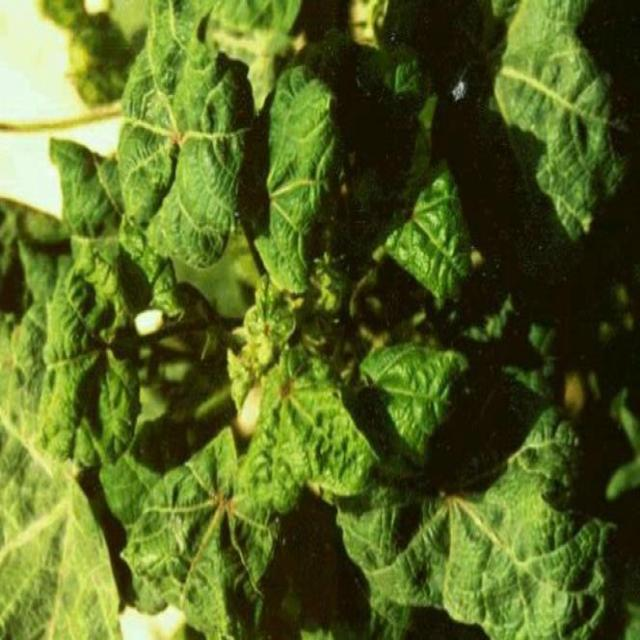Leaf Curl Virus: (130, 142, 440, 598)
